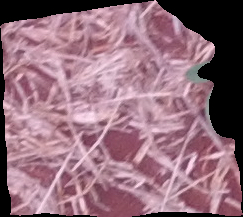soil: (2, 4, 243, 215)
